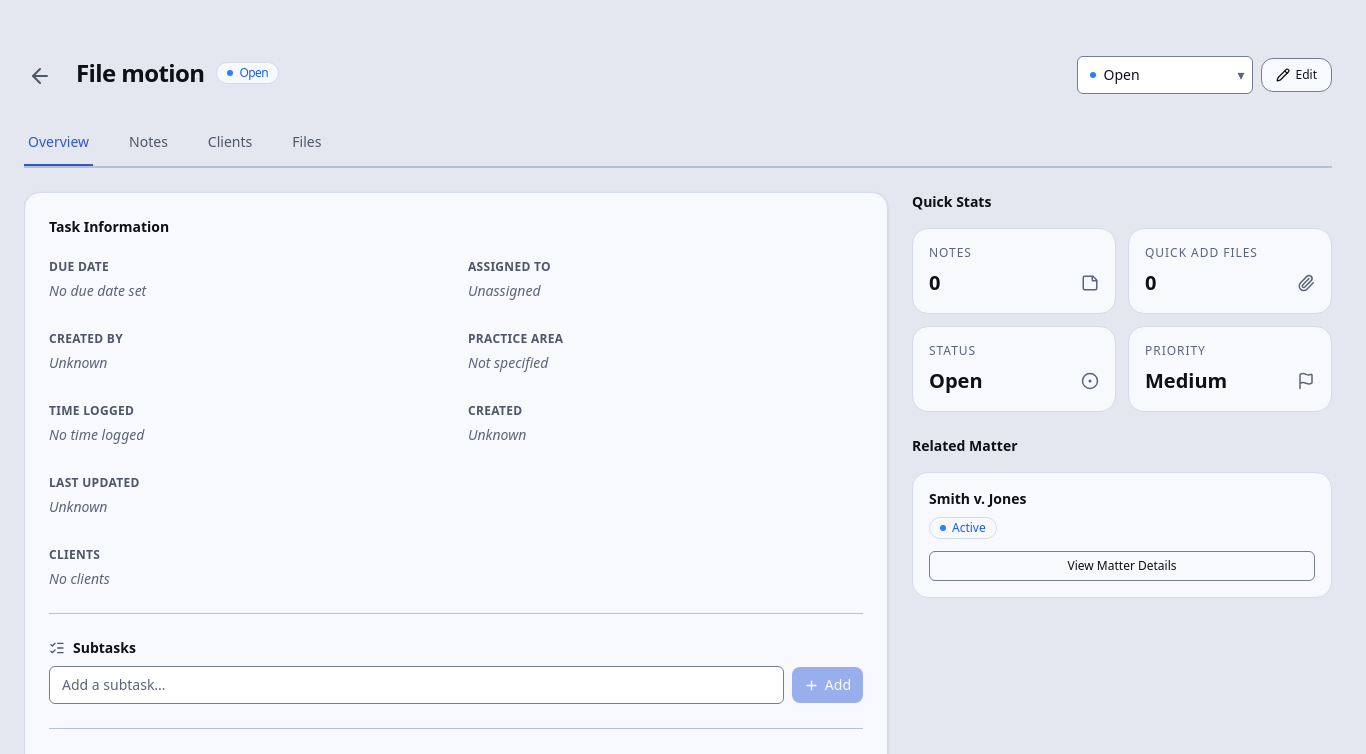
it: retracting a note on a task › offers Retract to a member who can update tasks but not delete them
Expected: the heading "File motion Open" is shown, [76,56,279,89]
Click the button "Notes" at (148, 143), box [125,120,172,166]
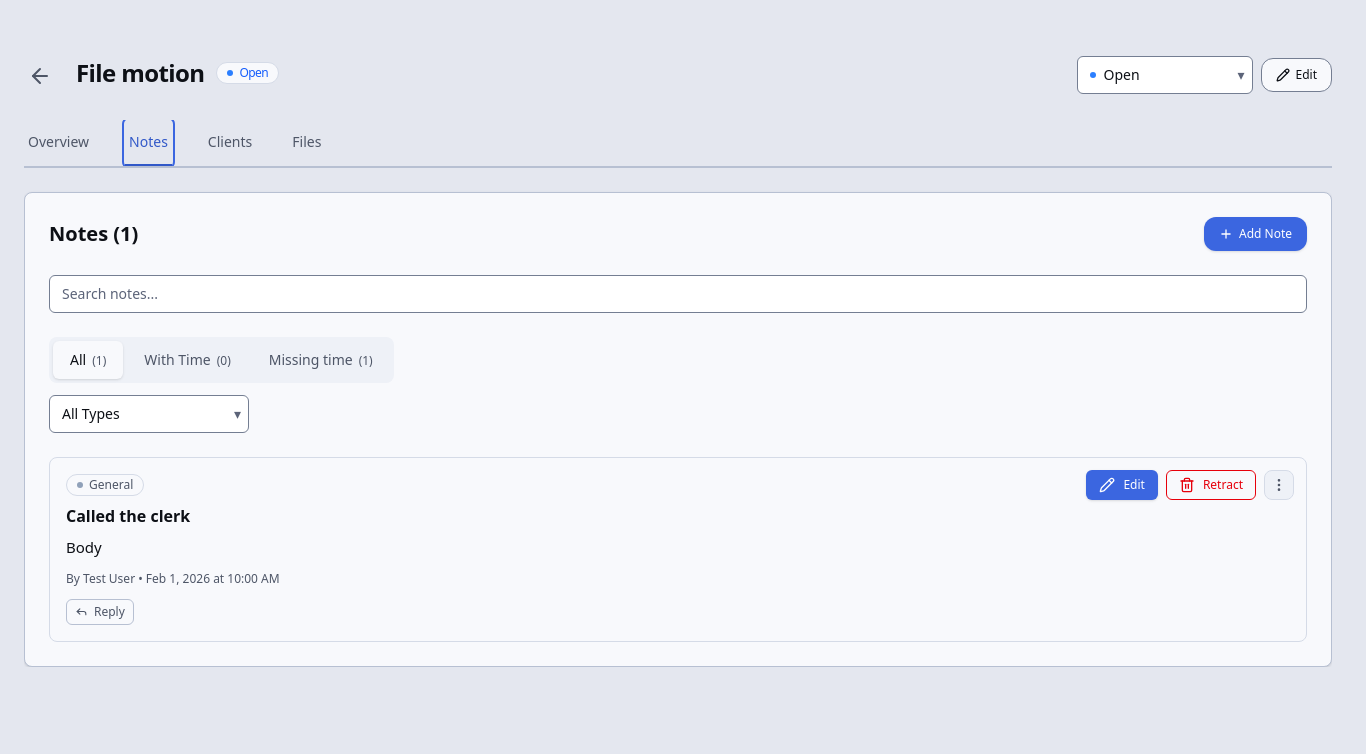
Expected: the heading "Called the clerk" is shown, [66,505,190,527]
Expected: the button "Retract" is shown, [1166,470,1256,500]
